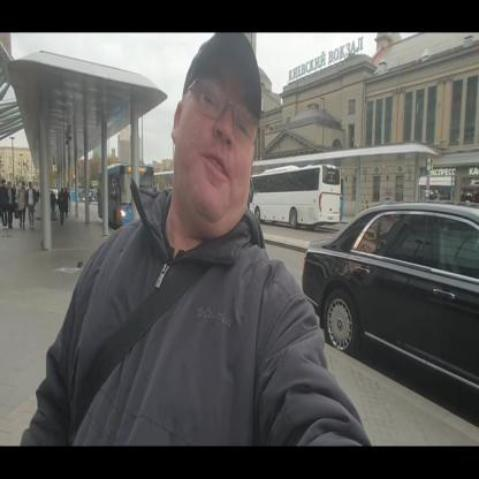bus: (250, 164, 344, 228), (98, 165, 155, 232)
